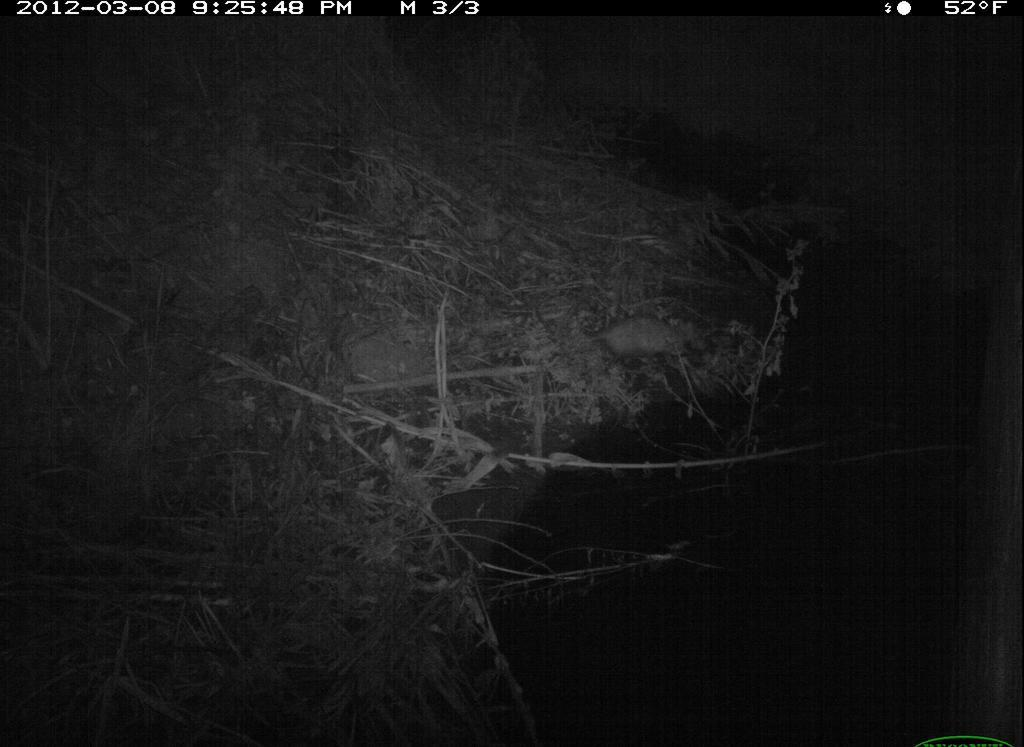opossum: (569, 312, 715, 369)
